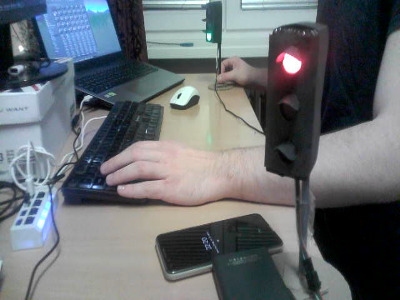trafficlight_green: (205, 2, 217, 43)
trafficlight_red: (265, 31, 316, 167)
